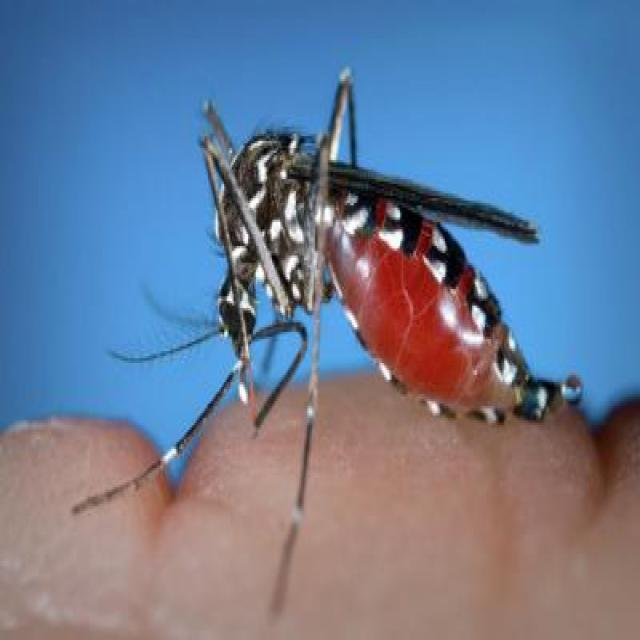antennae: (100, 282, 224, 366)
body: (218, 132, 550, 426)
insect: (74, 69, 583, 605)
legs: (78, 349, 244, 527), (276, 193, 332, 604), (298, 75, 373, 174)
mouthpart: (229, 313, 309, 442)
wings: (293, 138, 540, 247)
